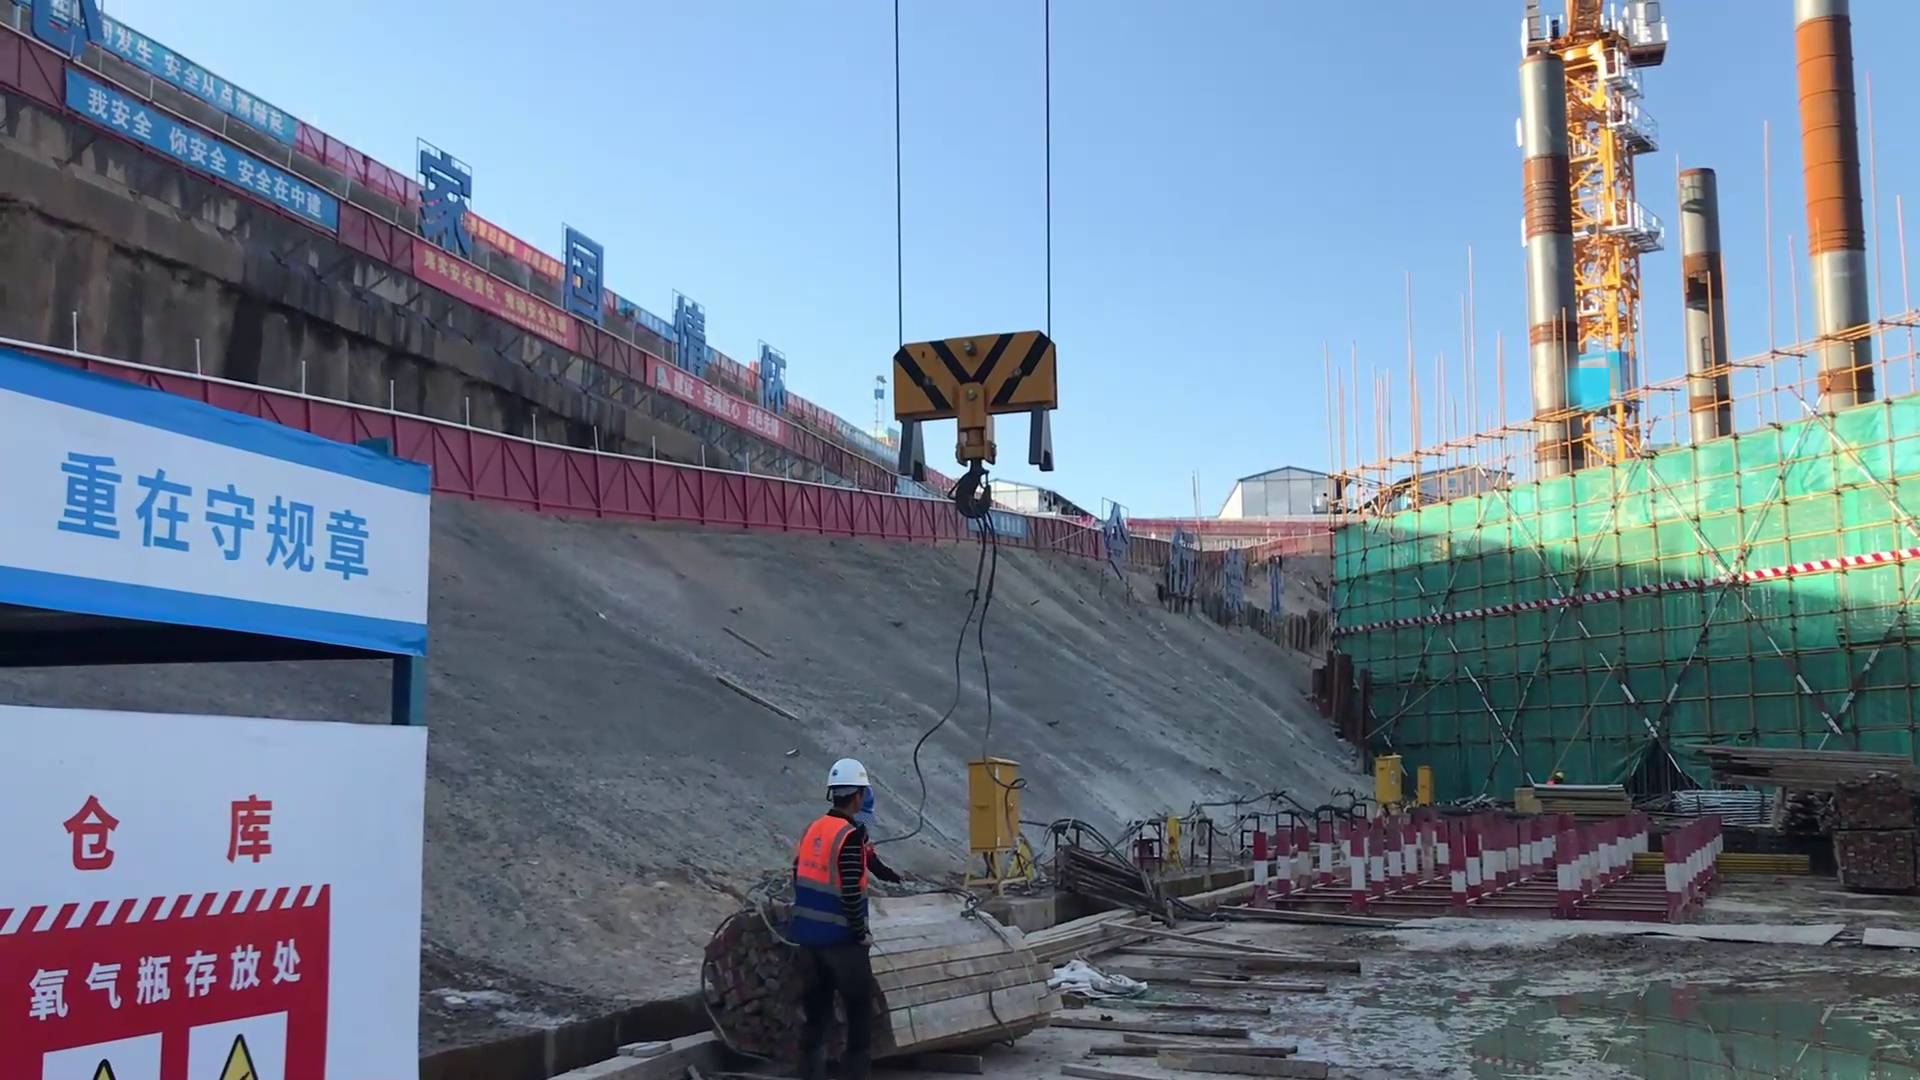ebox: (967, 757, 1019, 848), (1377, 756, 1410, 801), (1414, 764, 1432, 802)
fence: (435, 439, 721, 531), (723, 475, 923, 542)
helmet: (818, 749, 872, 807), (1554, 771, 1566, 780)
hook: (882, 329, 1058, 467)
person: (797, 745, 895, 1075)
slogan: (60, 70, 333, 268), (45, 463, 386, 618), (14, 922, 307, 1080), (37, 1, 311, 144), (407, 250, 615, 375)
vest: (796, 802, 865, 889)
wood: (1103, 898, 1369, 1080), (891, 893, 1062, 1050), (1699, 731, 1920, 790)
